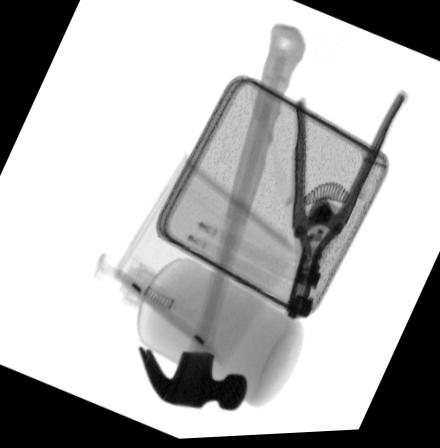Hammer: (137, 24, 308, 414)
Pliers: (284, 94, 409, 326)
